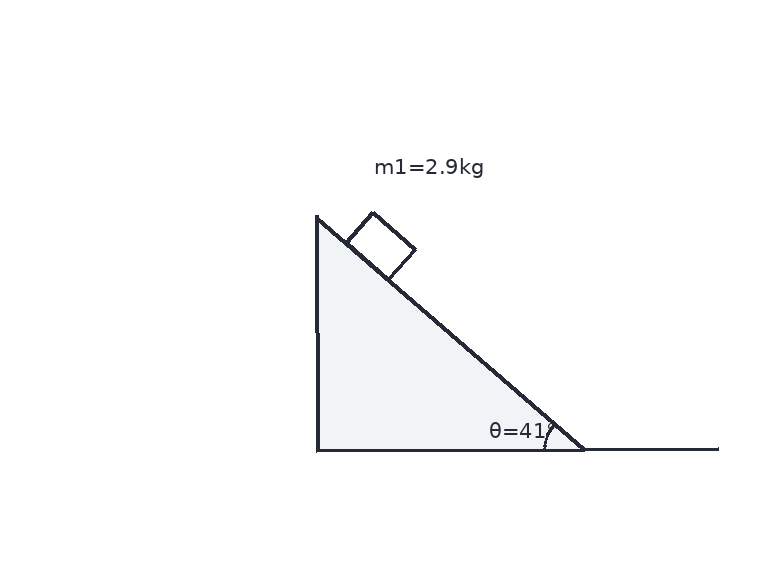block: (344, 210, 417, 282)
ramp: (314, 215, 586, 452)
